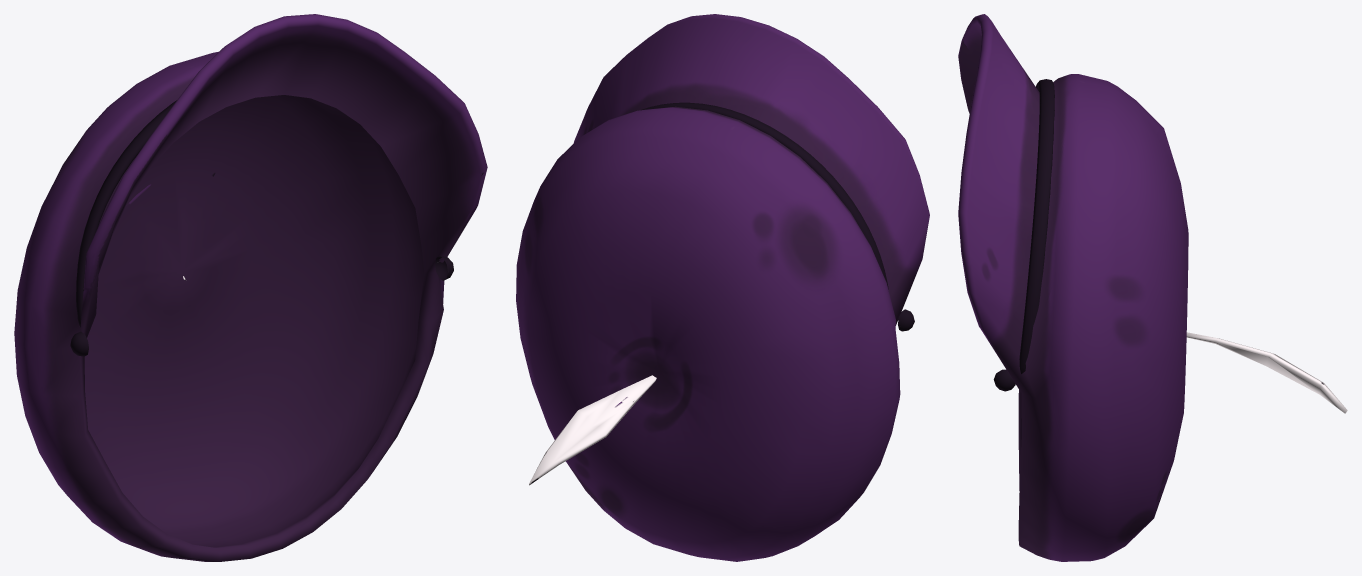
Rendered from boina.fbx.
3 renders of one model, left to right at view 1: azimuth 30°, elevation 25°; view 2: azimuth 150°, elevation 25°; view 3: azimuth 270°, elevation 25°, orthographic. The views are drawn at different scales.
Visible parts, largest first — view 1: Círculo; view 2: Círculo; view 3: Círculo.
Part boxes in pixels (x1,y1,x2,y2): Círculo: [14, 14, 487, 561]; Círculo: [516, 14, 929, 561]; Círculo: [958, 14, 1347, 561].
Bounding box in the file's own units: 36.67 × 46.77 × 32.04.
